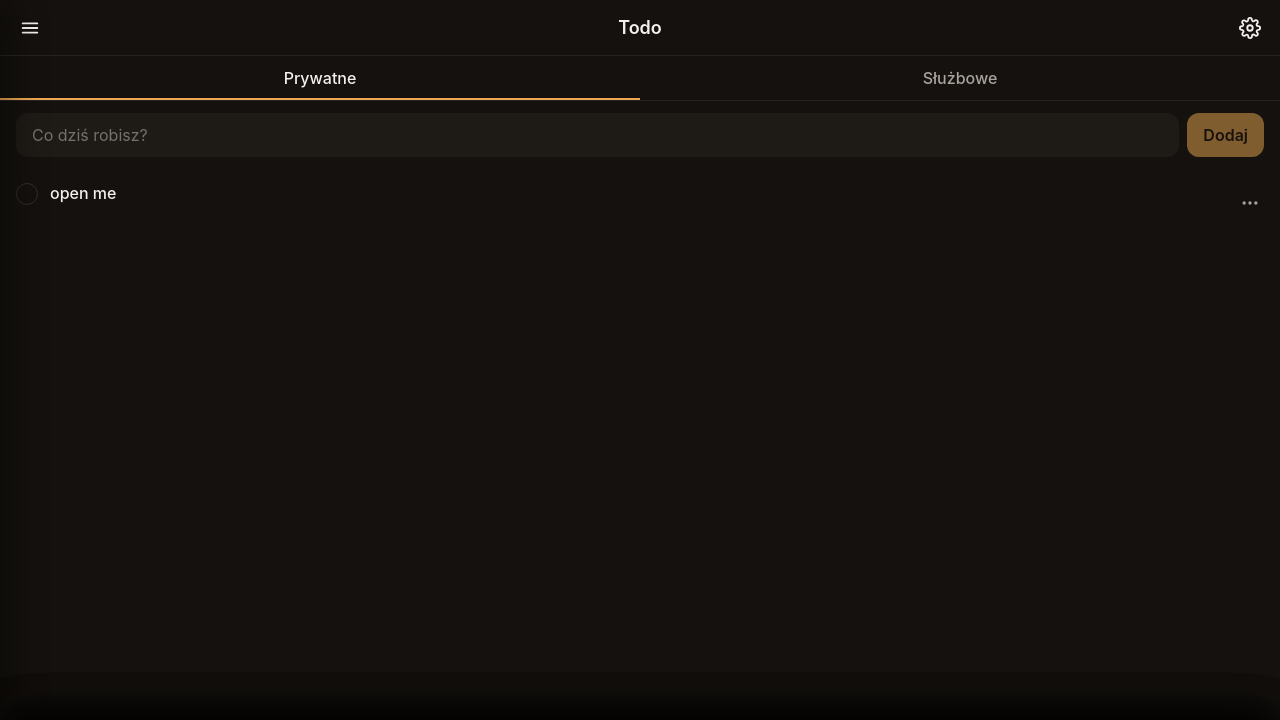
Test case: MainList › overflow menu, edit, and delete › clicking Przypomnij opens the RemindersSheet for that todo
Click the button named "Więcej akcji" at coordinates (1250, 203), box x1=1228 y1=181 x2=1272 y2=225
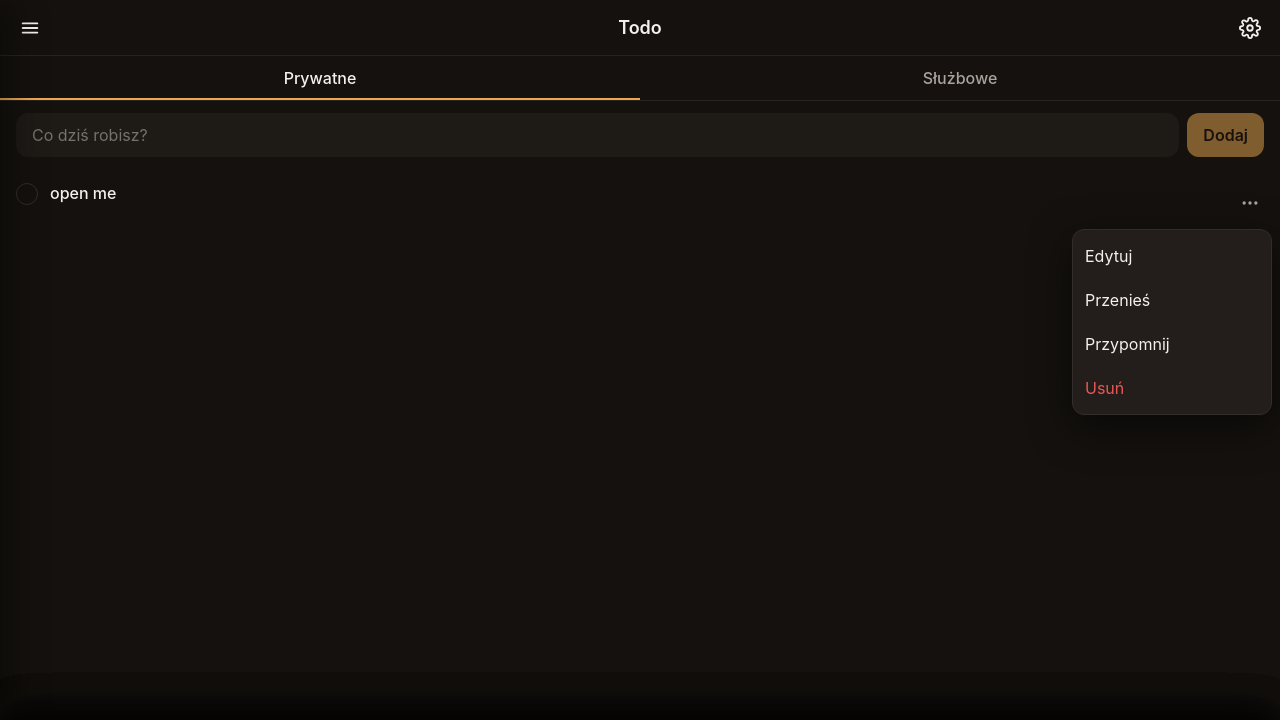
Click the menu item "Przypomnij" at coordinates (1172, 344), box x1=1073 y1=322 x2=1271 y2=366
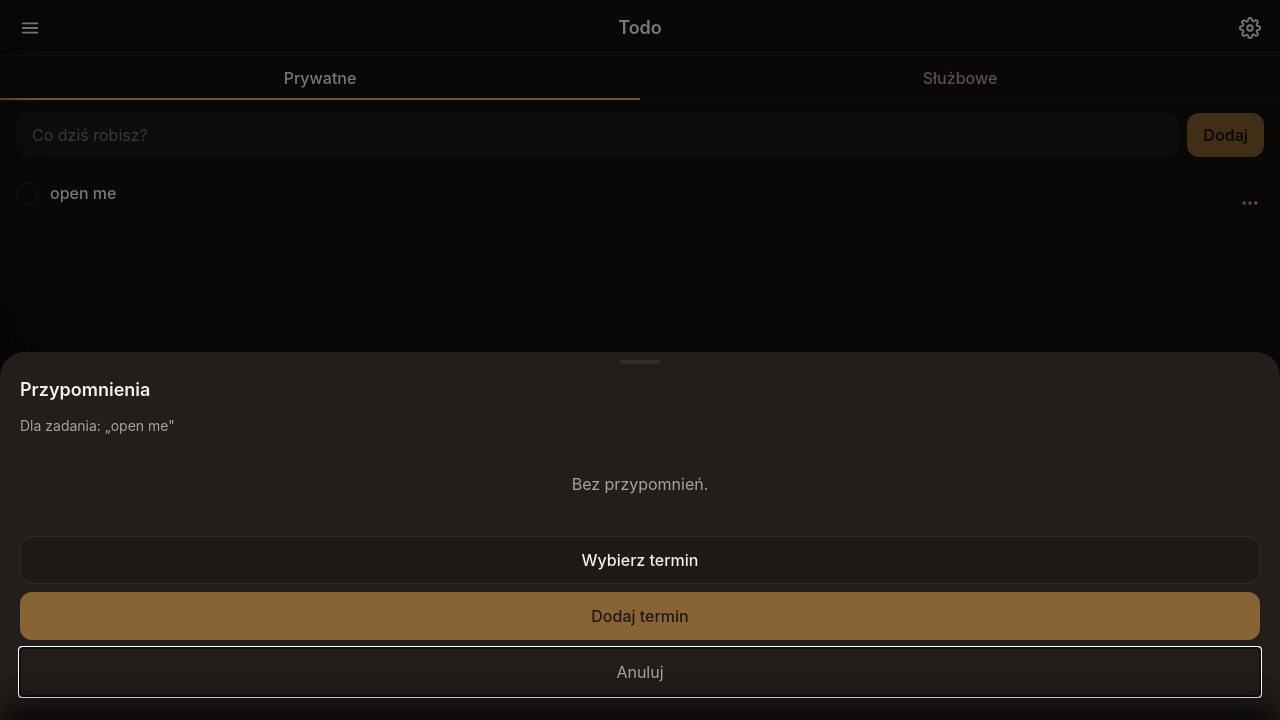
Check: the dialog shows "open me", box x1=20 y1=417 x2=175 y2=434
